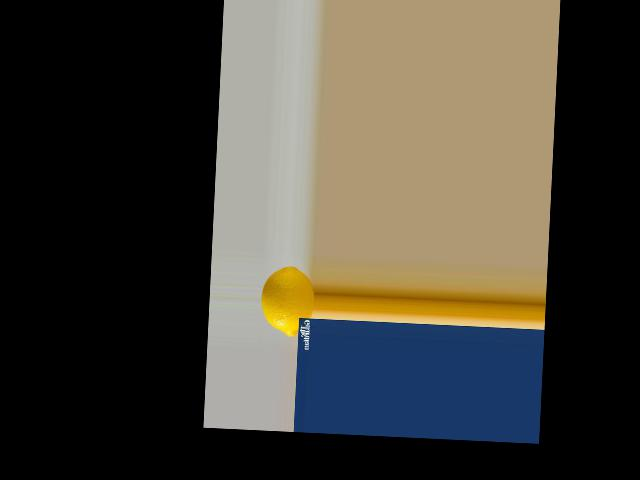lemon: (259, 259, 316, 340)
